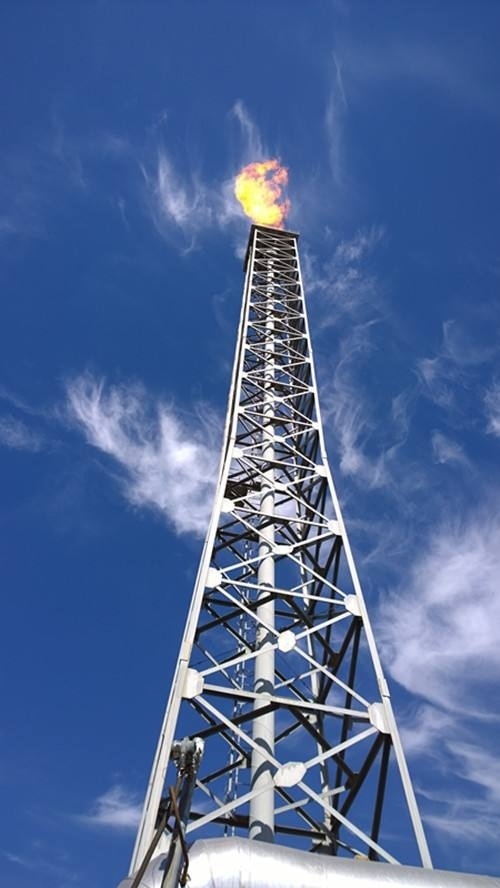fire: (232, 154, 292, 225)
